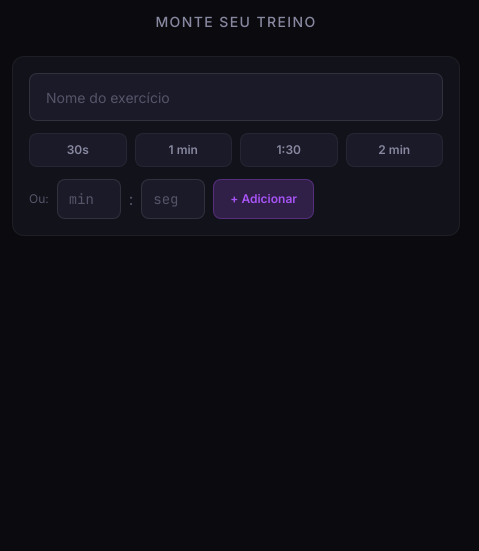
Scenario: WorkoutBuilder › adiciona exercício com duração customizada
Step 1. Type "Prancha" into the field with placeholder "Nome do exercício" → (236, 97), box [29,73,443,121]
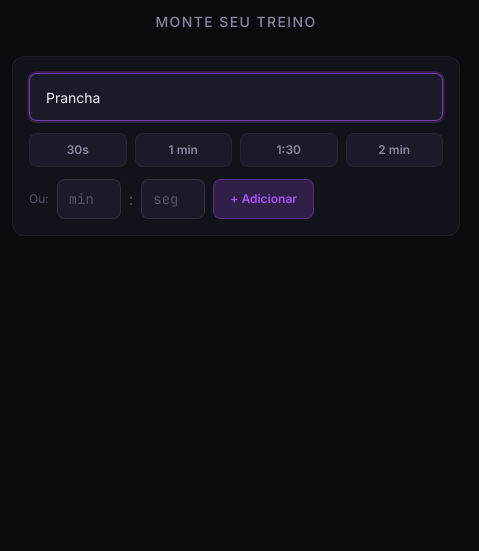
Step 2. Type "1" into the number field with placeholder "min" → (89, 199), box [57,179,121,219]
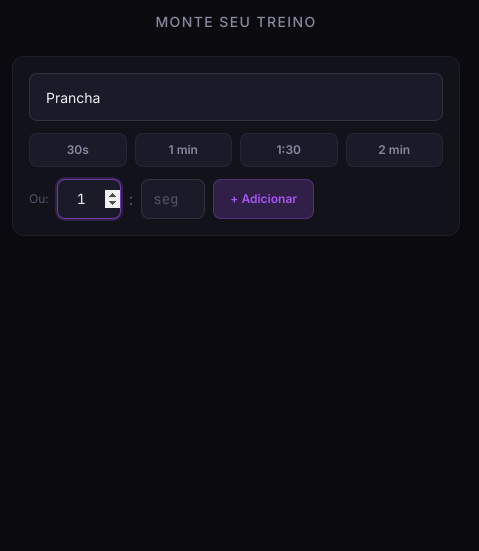
Step 3. Type "30" into the number field with placeholder "seg" → (173, 199), box [141,179,205,219]
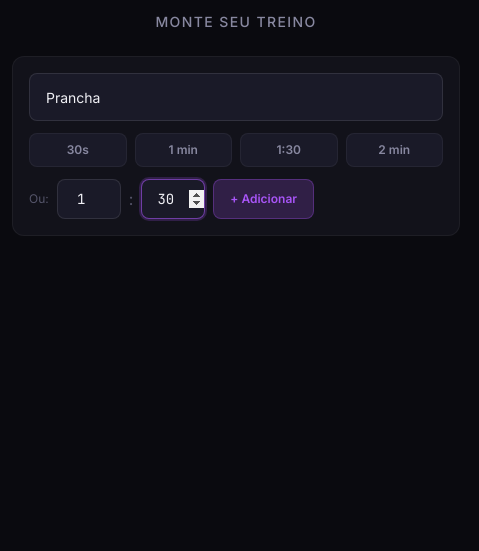
Step 4. Click the button "+ Adicionar" → (264, 199), box [213,179,314,219]
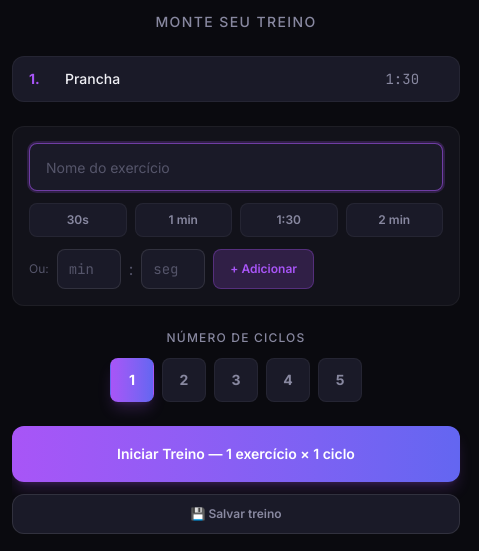
Now the text "Prancha" is shown, box [65,70,120,87]
